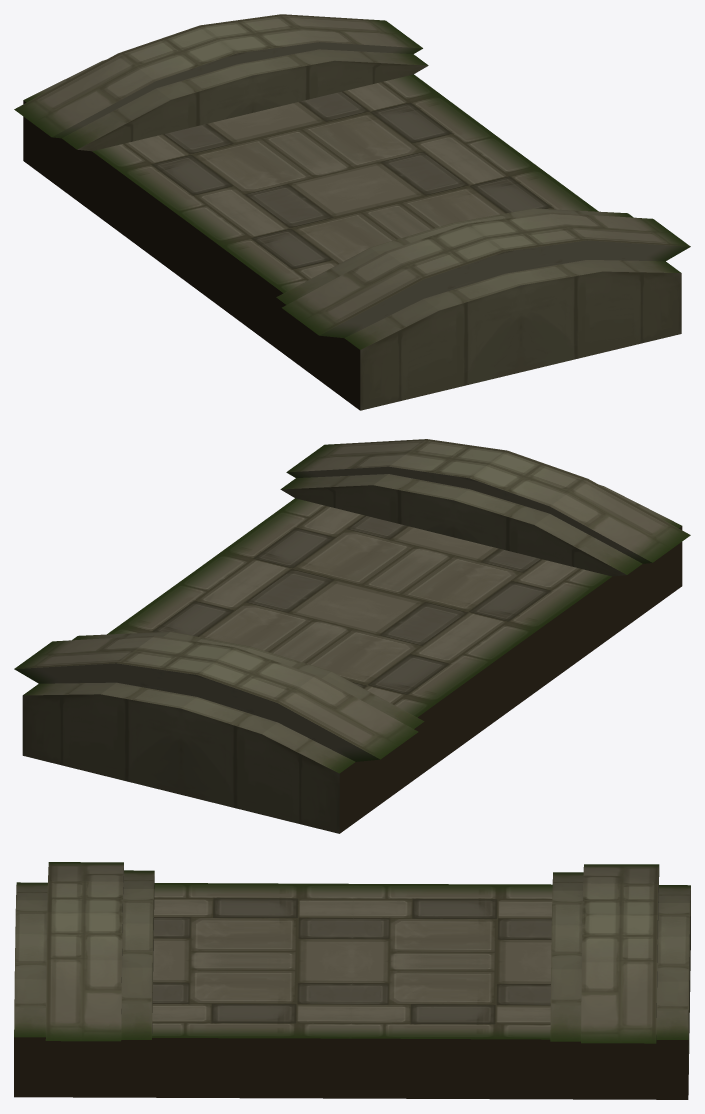
The model's file is Concrete_Bridge.fbx.
The picture shows the model from 3 angles, top to bottom: view 1: azimuth 30°, elevation 25°; view 2: azimuth 150°, elevation 25°; view 3: azimuth 270°, elevation 25°; orthographic projection.
Visible parts, largest first — view 1: Concrete_Bridge; view 2: Concrete_Bridge; view 3: Concrete_Bridge.
Boxes of the visible parts, box(x1,y1,x2,y2) form: Concrete_Bridge: box(14, 14, 690, 410); Concrete_Bridge: box(14, 439, 690, 833); Concrete_Bridge: box(14, 862, 690, 1099).
Bounding box in the file's own units: 320 × 89.77 × 508.
